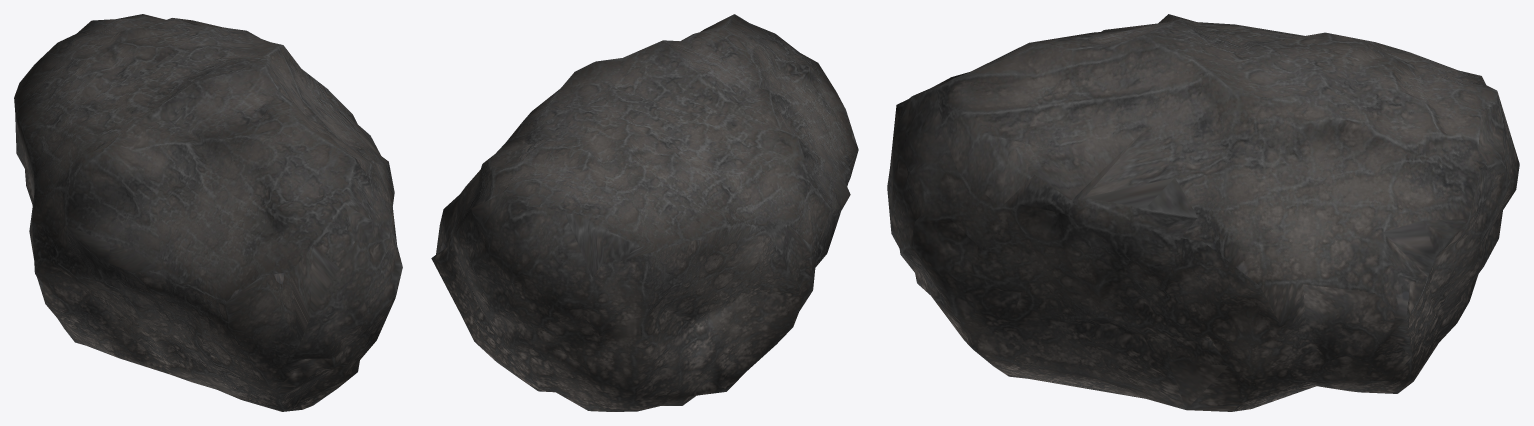
The model's file is Rock_big_03_GREY.fbx.
The picture shows the model from 3 angles, left to right: view 1: azimuth 30°, elevation 25°; view 2: azimuth 150°, elevation 25°; view 3: azimuth 270°, elevation 25°; orthographic projection. The views are drawn at different scales.
Parts seen in each view (by area): view 1: Rock_big_03_GREY; view 2: Rock_big_03_GREY; view 3: Rock_big_03_GREY.
Part boxes in pixels (x1=…): Rock_big_03_GREY: x1=14, y1=14, x2=402, y2=411; Rock_big_03_GREY: x1=431, y1=14, x2=858, y2=411; Rock_big_03_GREY: x1=887, y1=14, x2=1519, y2=411.
Bounding box in the file's own units: 0.5415 × 0.4633 × 0.7484.
Materials: 1 (1 with a texture image).
